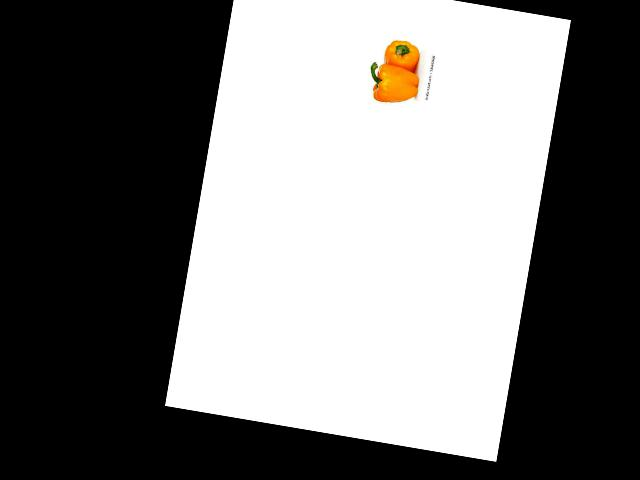bell_pepper: (379, 37, 423, 74)
